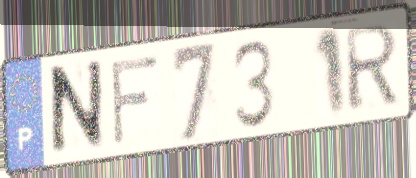1: (311, 23, 349, 122)
3: (231, 37, 277, 130)
7: (170, 38, 218, 146)
F: (108, 52, 161, 151)
N: (48, 55, 105, 163)
R: (341, 21, 402, 115)
